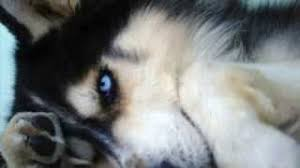Lobo: (7, 4, 246, 168)
